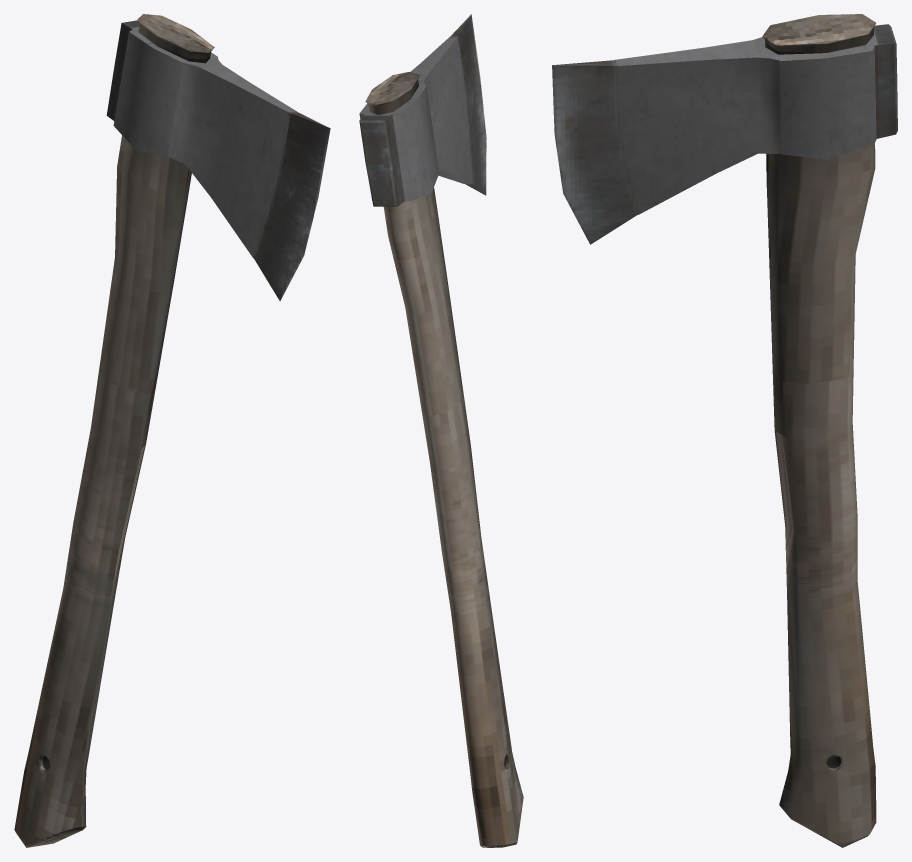
The picture shows the model from 3 angles, left to right: view 1: azimuth 30°, elevation 25°; view 2: azimuth 150°, elevation 25°; view 3: azimuth 270°, elevation 25°; orthographic projection. The views are drawn at different scales.
Parts seen in each view (by area): view 1: Hatchet; view 2: Hatchet; view 3: Hatchet.
Part boxes in pixels (x1,y1,x2,y2): Hatchet: (14, 14, 330, 847); Hatchet: (359, 14, 523, 847); Hatchet: (552, 14, 897, 847).
Bounding box in the file's own units: 0.00289 × 0.0124 × 0.00438.
1 material, 1 textured.
